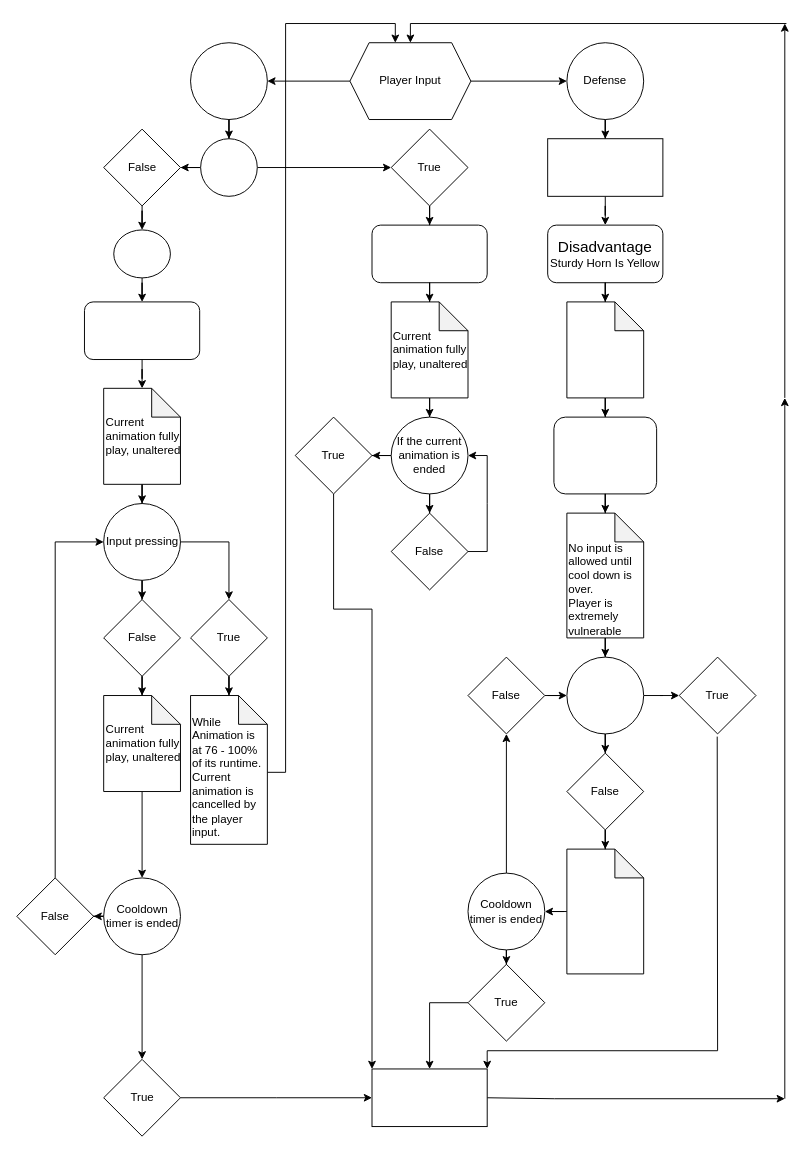
This 811x1153 diagram has some shape labels left out. Each missing label, with the centre of its shape:
Advantage Sturdy Horn turn Green: (142,330)
Attack: (228,81)
Blocked: (228,167)
Cool down 25% of last animation time is used to applie the penalty: (605,455)
Current animation fully play + a cooldown is applied to inputs: (605,349)
Hit Sucess: (141,253)
Hitting: (605,695)
Miss: (605,167)
Neutral Sturdy Horn is grey: (429,253)
Possible that the player remain unscathed from the CD penalty: (605,911)
Return to idle Sturdy Horn turn grey: (429,1097)
